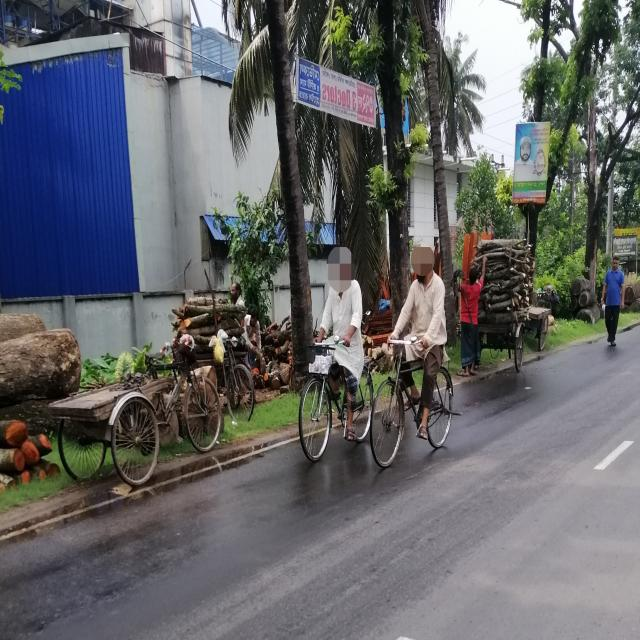Bicycle: (370, 327, 465, 474)
Van: (55, 320, 223, 496)
